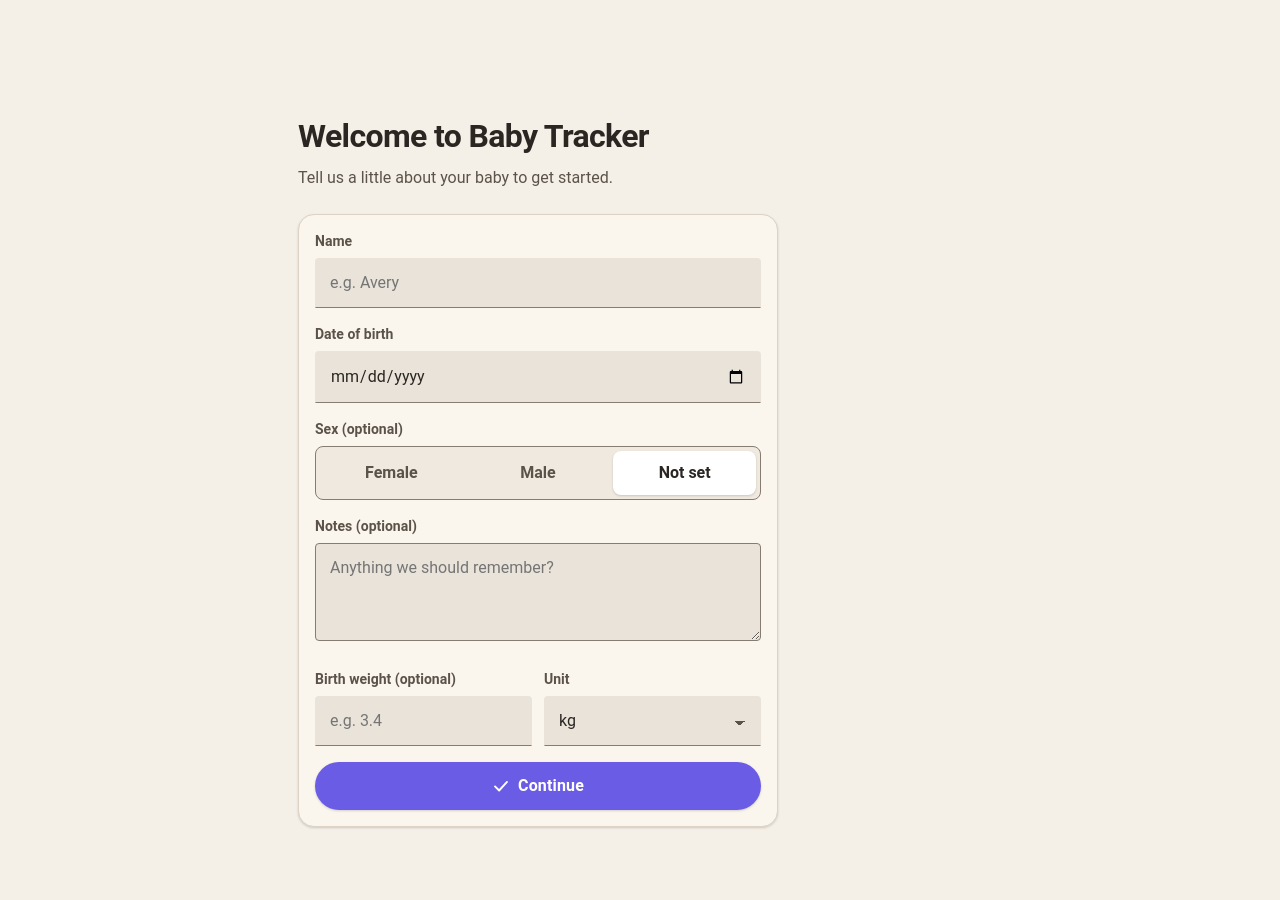
Test: Head circumference tracking › opens the real head circumference screen from the Health menu and backs out
The width and height of the screenshot is (1280, 900).
Type "Avery" into the field labelled "Name" at (538, 283), box [315,258,761,308]
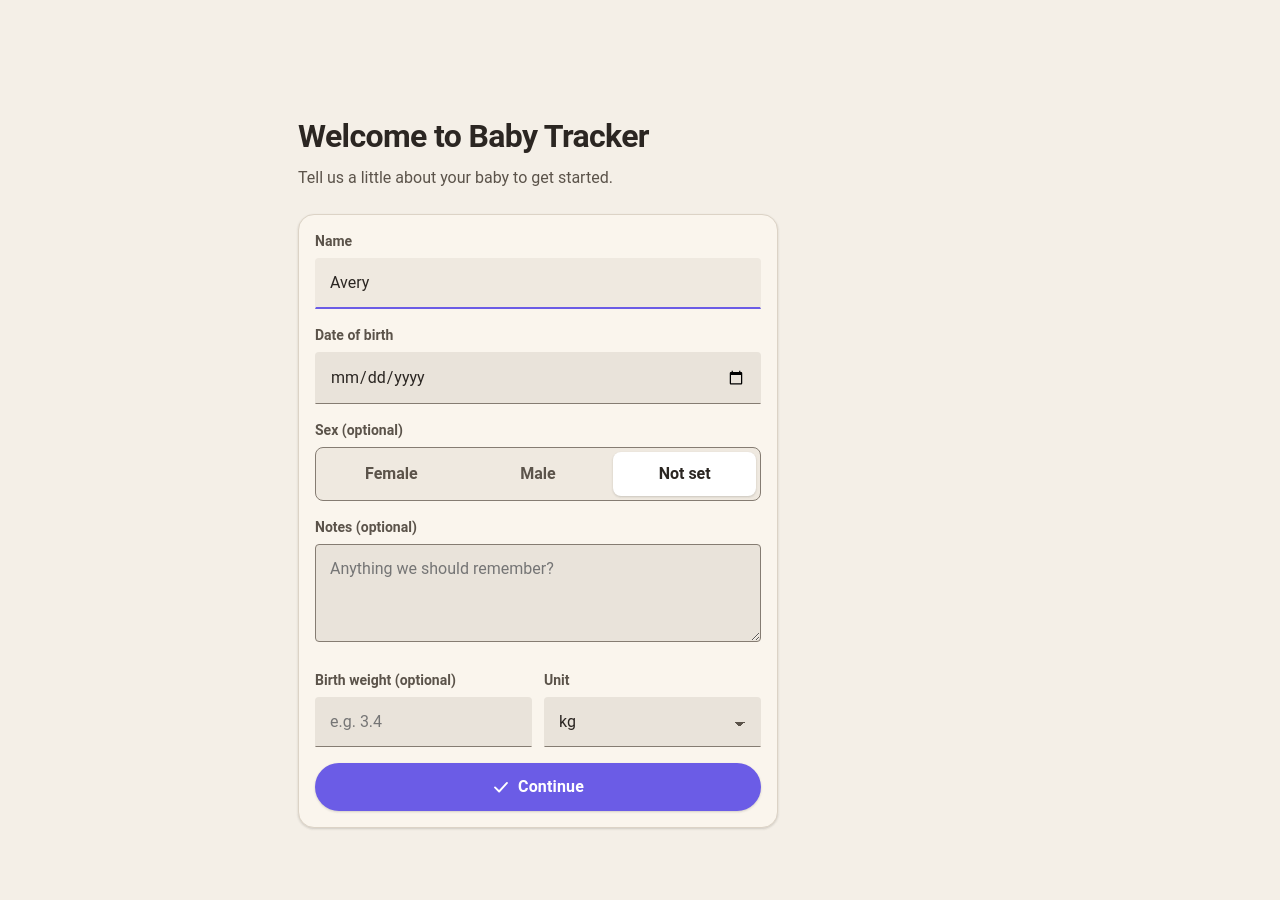
Type "2026-01-15" into the date field labelled "Date of birth" at (538, 378), box [315,352,761,404]
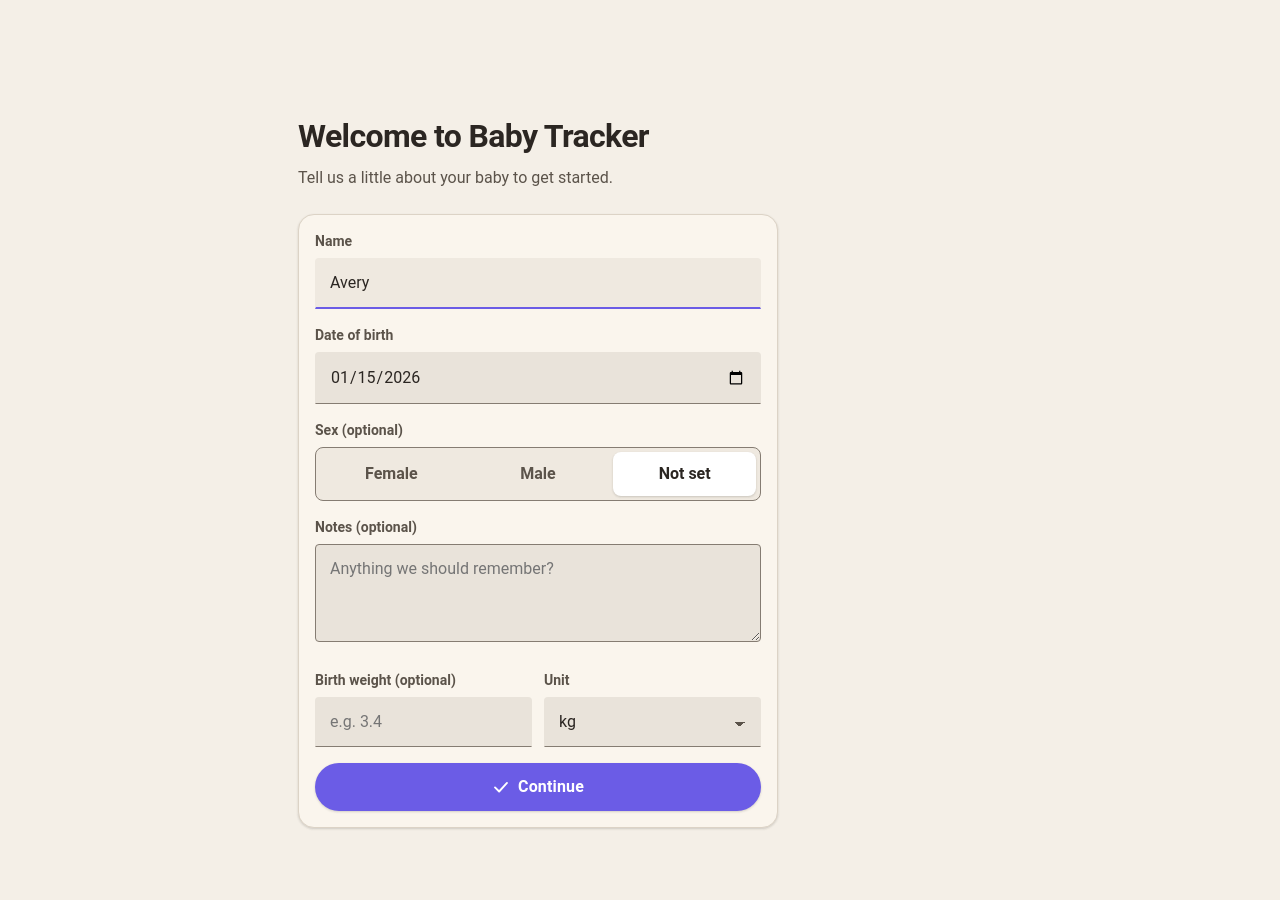
Click the button "Continue" at (538, 787), box [315,763,761,811]
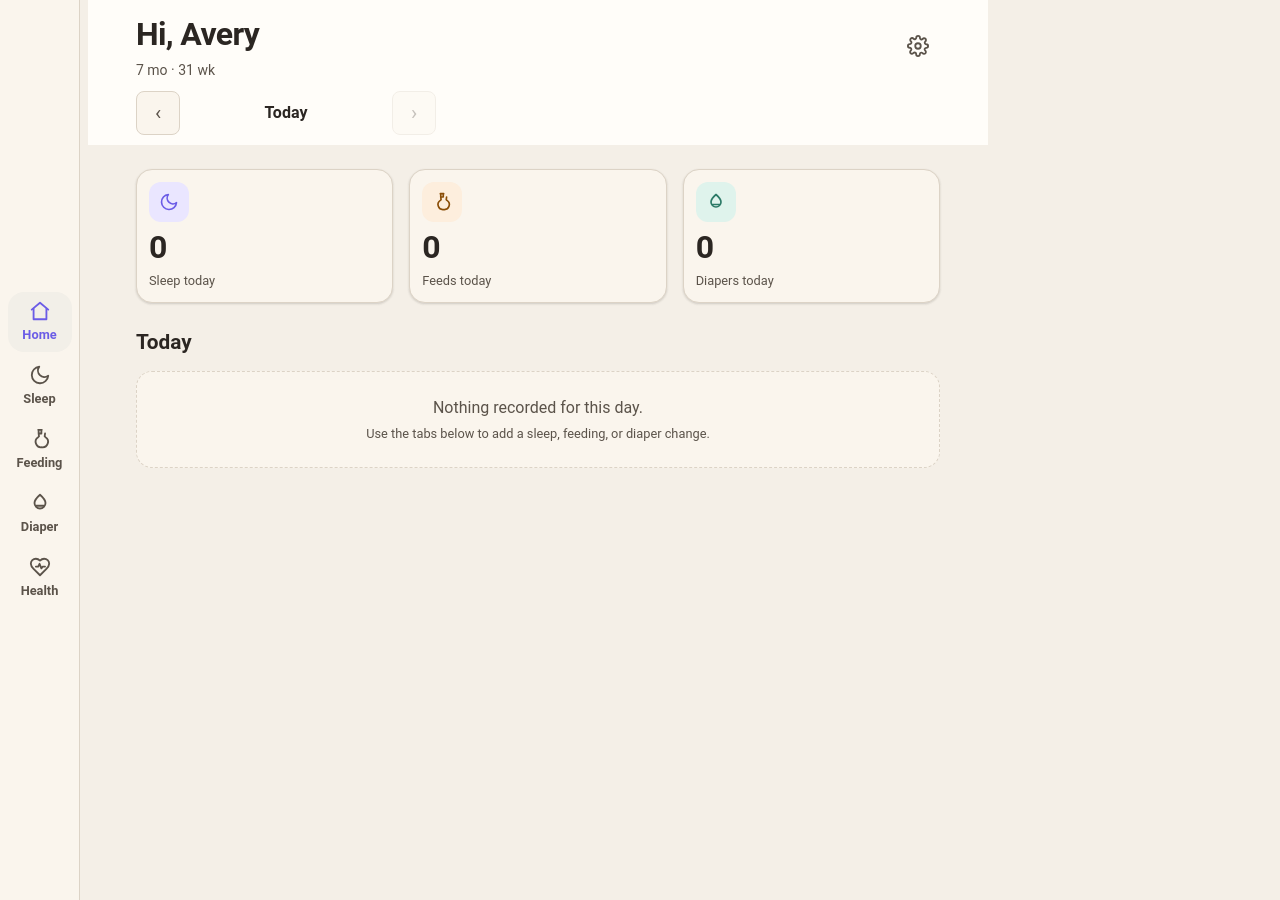
Click the button "Health" at (40, 578), box [8,548,72,608]
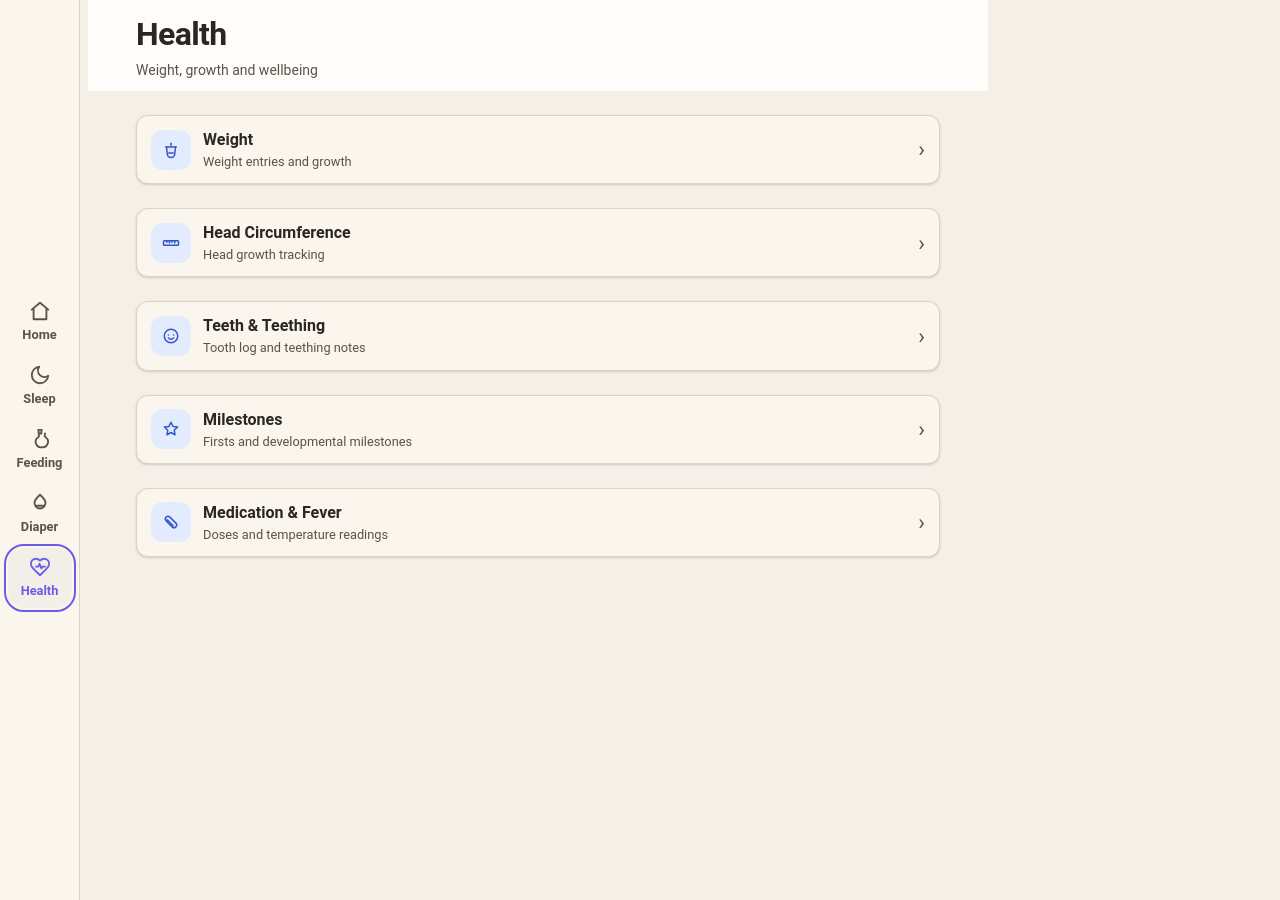
Click the button "Head circumference Head growth tracking ›" at (171, 243), box [136,208,940,277]
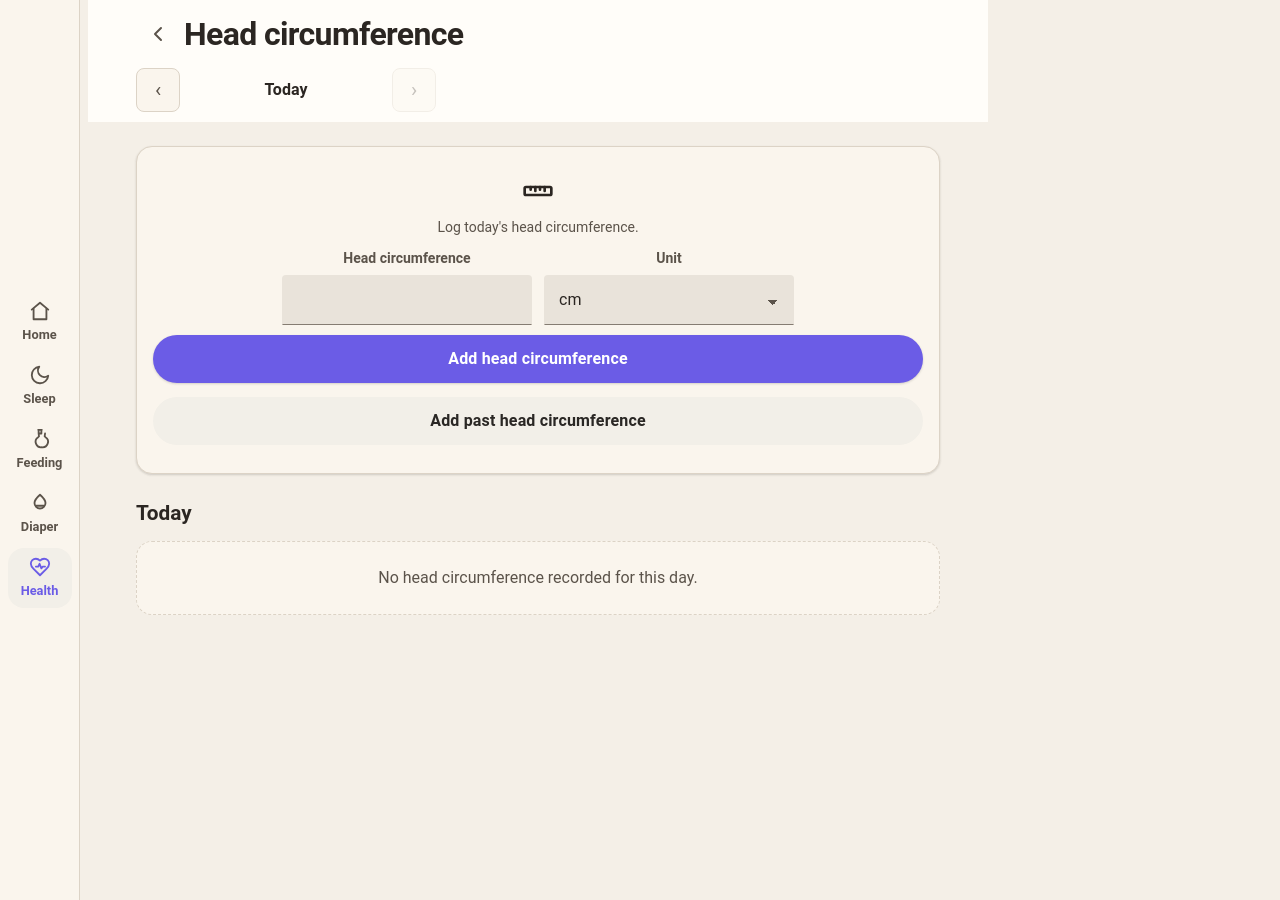
Result: the heading "Head circumference" is shown at [184,10,464,58]
Result: the button "Add head circumference" is shown at [153,335,923,383]
Click the button named "back" at (158, 34), box [136,12,180,56]
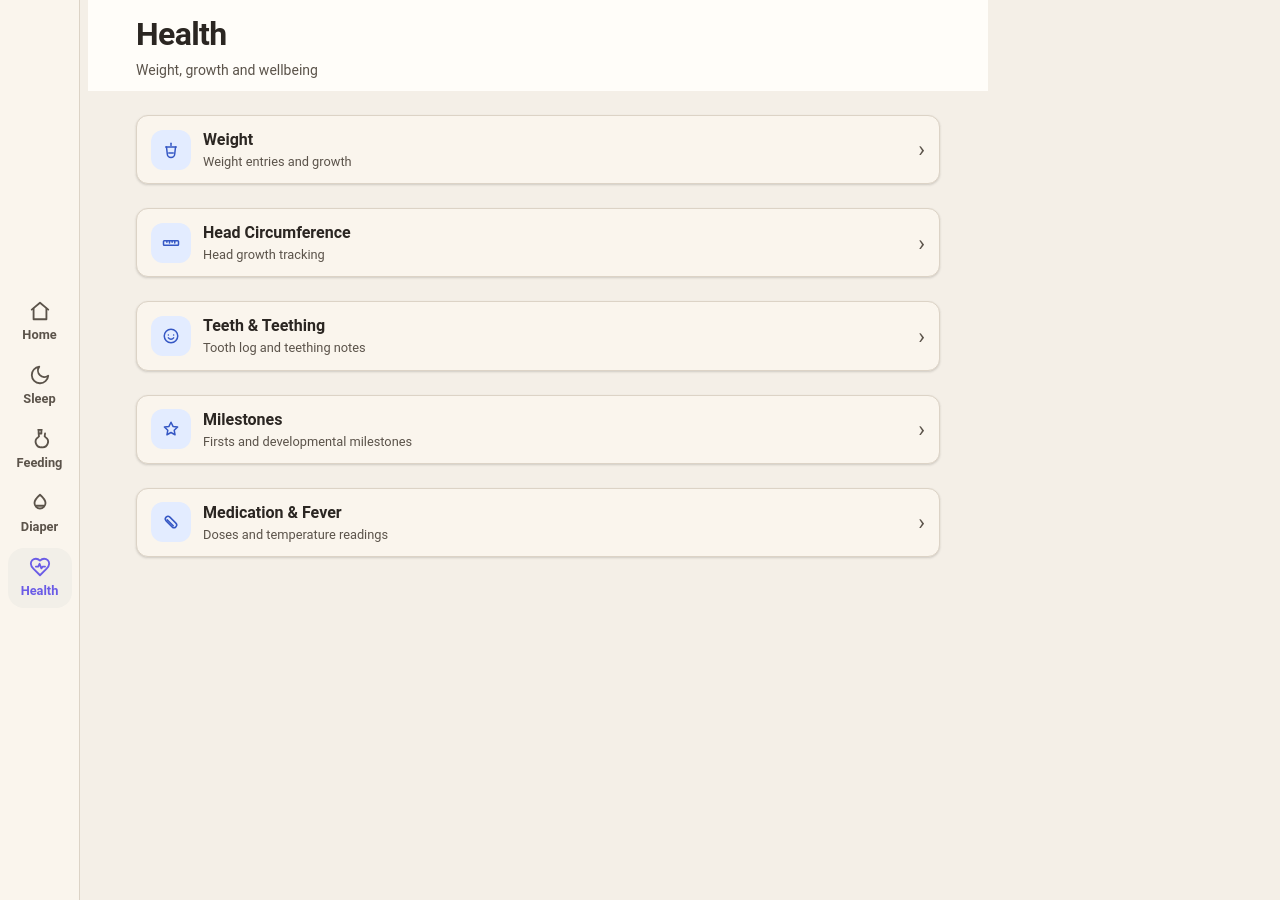
Result: the heading "Health" is shown at [136,10,226,58]
